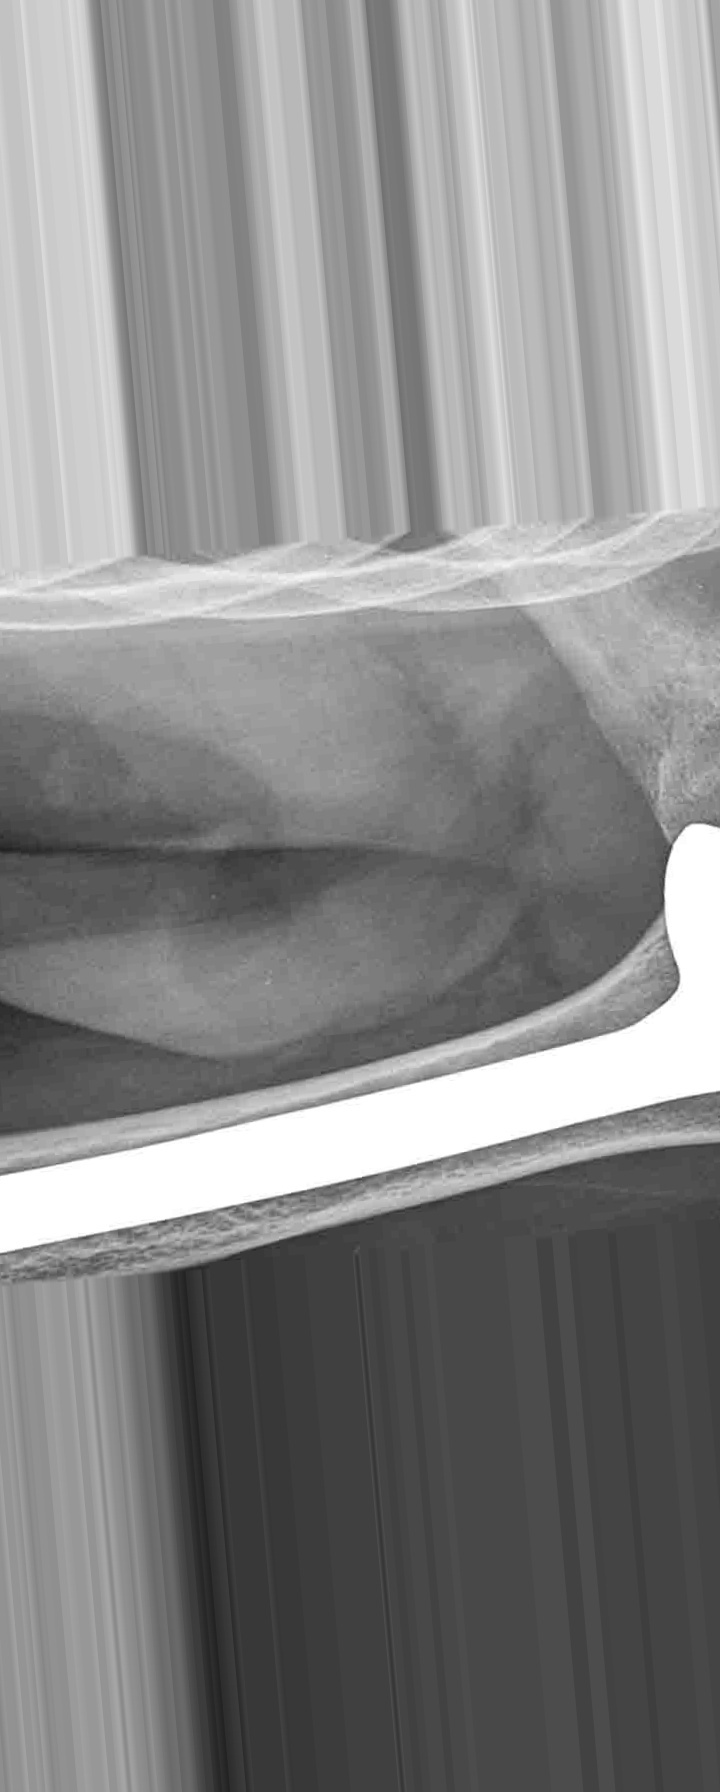Shoulder-Reverse-DJO: (1, 805, 718, 1263)
